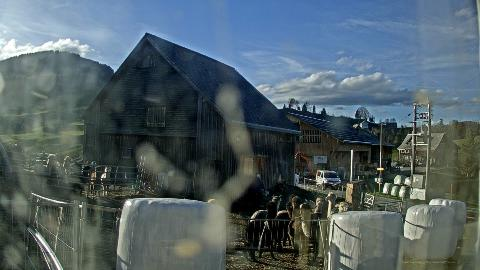car: (315, 170, 341, 190), (390, 166, 400, 174), (419, 160, 427, 166)
sheep: (245, 201, 278, 260), (300, 203, 332, 261), (252, 194, 282, 244), (288, 197, 308, 259), (276, 194, 296, 250), (68, 165, 92, 195), (34, 154, 56, 186), (325, 193, 347, 218), (53, 157, 73, 183), (100, 166, 114, 194), (91, 166, 103, 196), (43, 163, 57, 185), (315, 194, 325, 212), (351, 194, 361, 210), (338, 201, 348, 213)
